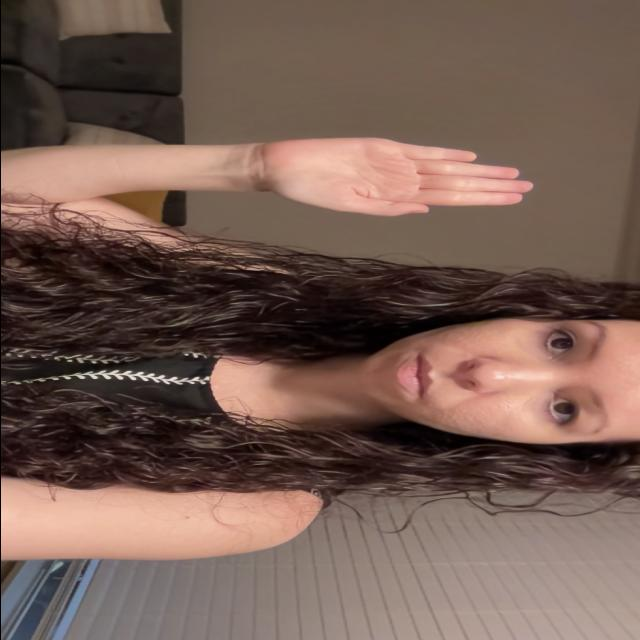Paper: (255, 134, 539, 220)
